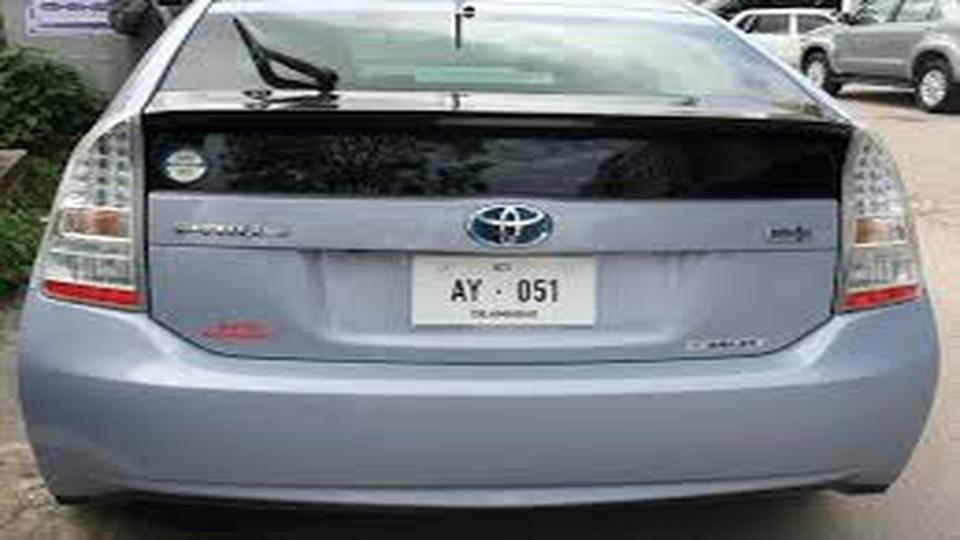NumberPlate: (407, 252, 597, 326)
